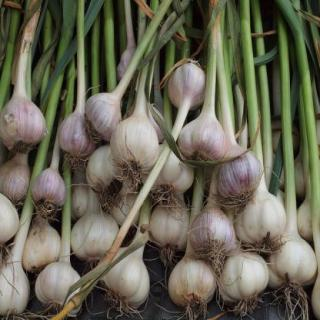Bawang Putih: (1, 97, 52, 157), (110, 115, 160, 175), (177, 114, 227, 168)
